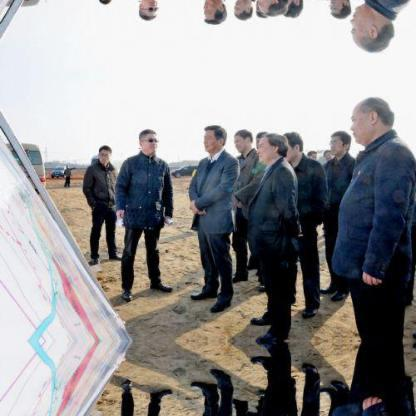No Helmet: (347, 91, 396, 141), (347, 5, 396, 55), (198, 121, 228, 154), (257, 129, 283, 161), (198, 0, 228, 26), (280, 128, 303, 160), (134, 126, 160, 154), (327, 128, 351, 156), (230, 124, 254, 152), (229, 0, 255, 23), (133, 0, 161, 21), (256, 0, 284, 18), (326, 0, 352, 19), (280, 0, 304, 18), (94, 141, 112, 163), (94, 0, 112, 6)
